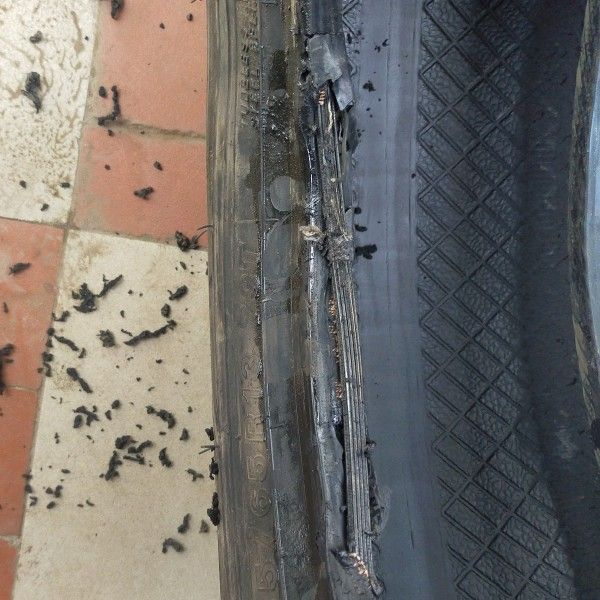bead_damage: (250, 17, 389, 599)
